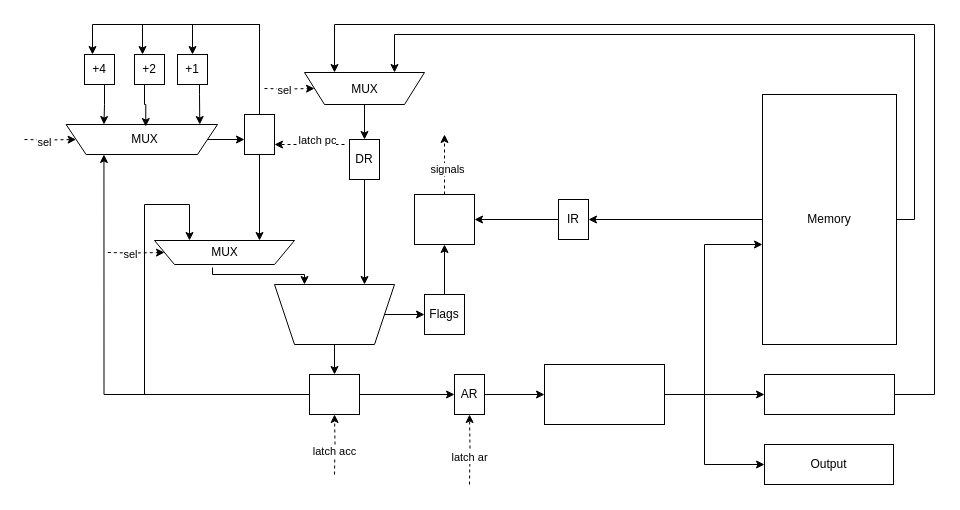
Some shapes in this 960 by 510 pixel diagram are drawn without their labels. The centre of each missing label's shape, as x and y in pixels:
ACC: the point at 334,394
Address Decoder: the point at 604,394
ALU: the point at 334,314
CU: the point at 444,219
Input: the point at 829,394
PC: the point at 259,134
